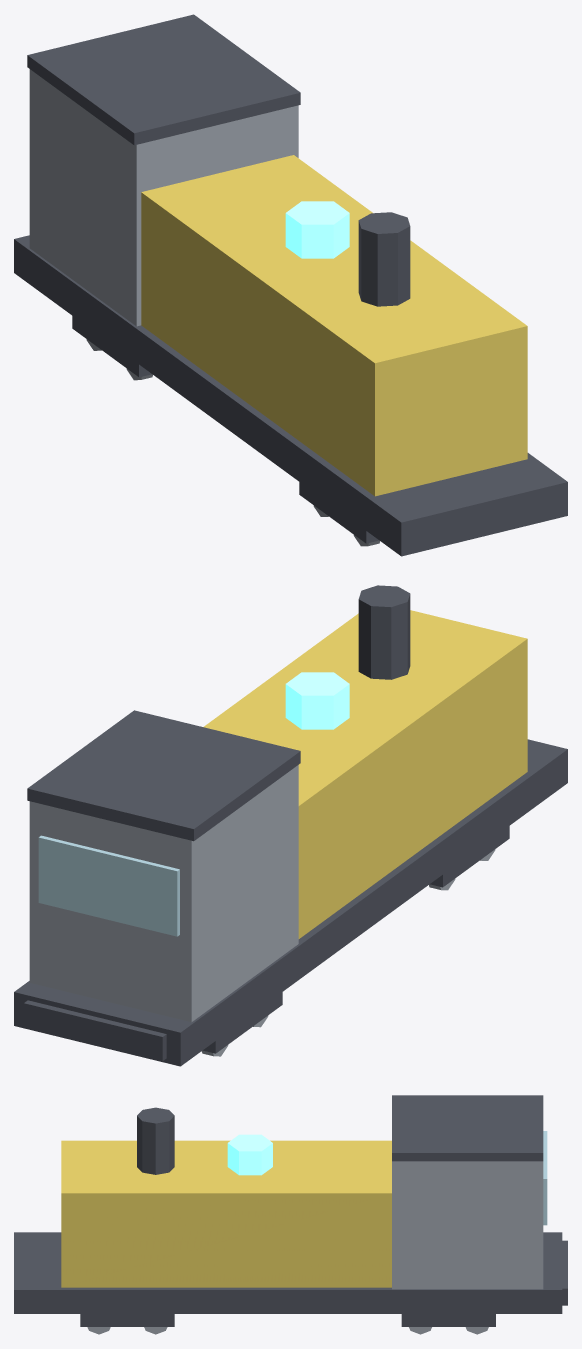
The model's file is locomotiva_sem_textura.glb.
The picture shows the model from 3 angles, top to bottom: view 1: azimuth 30°, elevation 25°; view 2: azimuth 150°, elevation 25°; view 3: azimuth 270°, elevation 25°; orthographic projection. The views are drawn at different scales.
Visible parts, largest first — view 1: locomotiva_corpo, locomotiva_truque0, locomotiva_truque1; view 2: locomotiva_corpo, locomotiva_truque0, locomotiva_truque1; view 3: locomotiva_corpo, locomotiva_truque0, locomotiva_truque1.
Boxes of the visible parts, x1,y1,x2,y2 form: locomotiva_corpo: [14, 14, 567, 556]; locomotiva_truque0: [299, 482, 379, 546]; locomotiva_truque1: [72, 316, 152, 380]; locomotiva_corpo: [14, 585, 567, 1066]; locomotiva_truque0: [429, 826, 509, 890]; locomotiva_truque1: [201, 992, 282, 1056]; locomotiva_corpo: [14, 1095, 567, 1313]; locomotiva_truque0: [80, 1314, 174, 1334]; locomotiva_truque1: [401, 1314, 495, 1334].
Size of the model in its own units: 0.72 by 1.15 by 2.93.
